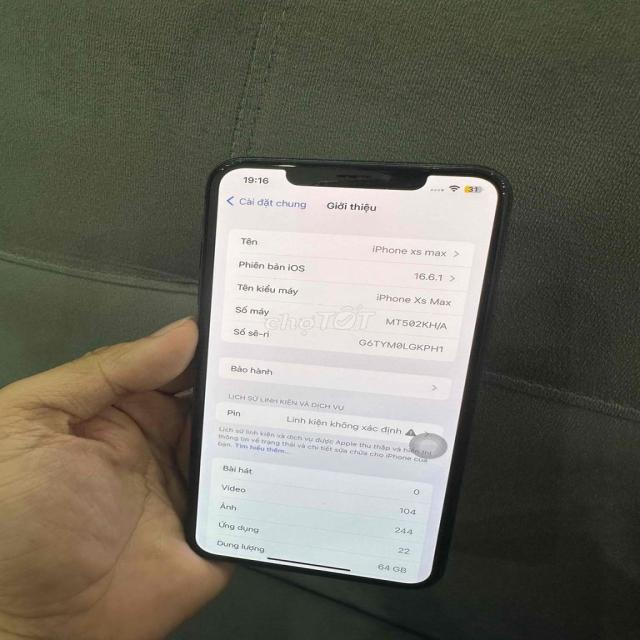scratch: (198, 149, 253, 185)
